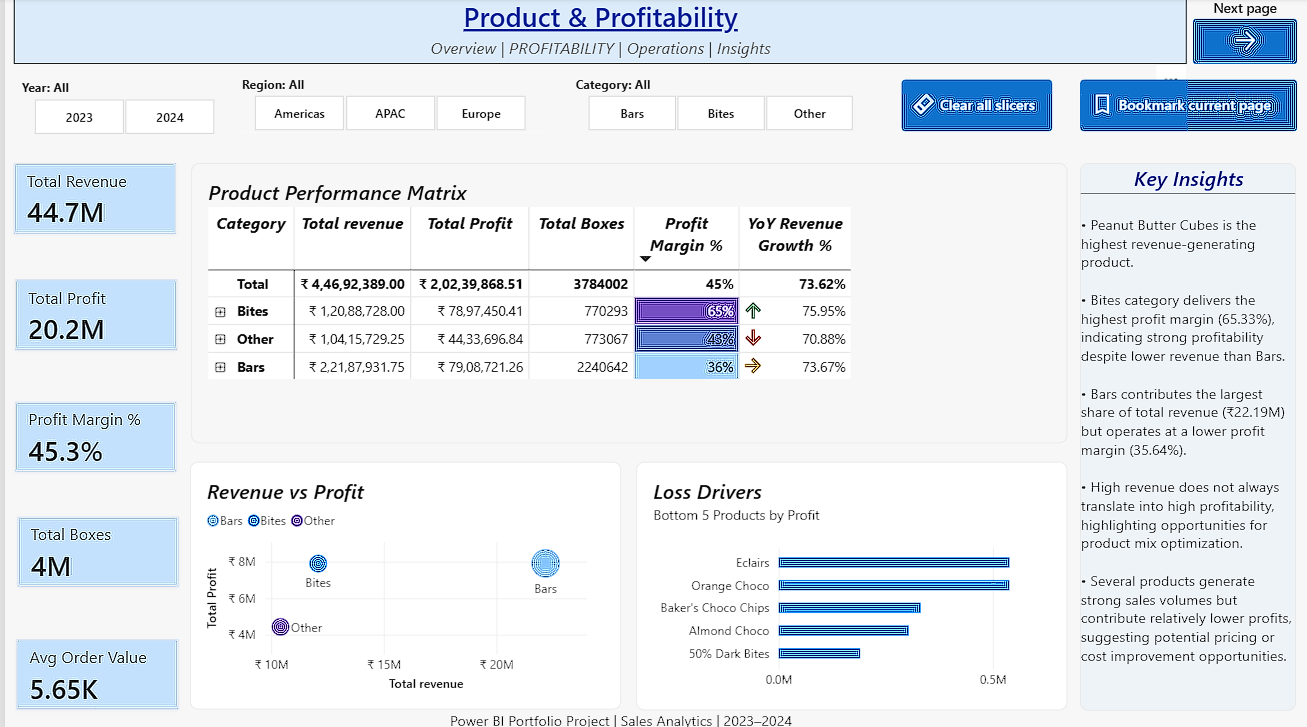

What the dashboard file says about the page in this screenshot:
{"tool":"powerbi","page":{"name":"Product & Profitability","canvas":[1280,720],"ordinal":2},"visuals":[{"type":"pivotTable","title":"Product Performance Matrix","fields":{"Rows":["products.Category","products.Product"],"Values":["calendar.Total revenue","calendar.Total Profit","calendar.Total Boxes","calendar.Profit Margin %","calendar.YoY Revenue Growth %"]},"box":[182.8,162,860.1,274.8],"z":0},{"type":"scatterChart","title":"Revenue vs Profit","fields":{"X":["calendar.Total revenue"],"Y":["calendar.Total Profit"],"Size":["calendar.Total Boxes"],"Series":["products.Category"]},"box":[181.6,455.2,423.3,242.9],"z":1000},{"type":"clusteredBarChart","title":"Loss Drivers","fields":{"Y":["calendar.Total Profit"],"Category":["products.Product"]},"box":[619.6,455.2,423.3,244.2],"z":2000},{"type":"textbox","box":[436.8,699.4,352.1,20.9],"z":3000},{"type":"actionButton","title":"Next page ","box":[1165.7,0,103.1,65],"z":4000},{"type":"textbox","title":"Product & Profitability","box":[8.7,0,1152.2,64.6],"z":5000},{"type":"slicer","fields":{"Values":["calendar.cal_date.Variation.Date Hierarchy.Year"]},"box":[8.6,79.8,216,55.2],"z":6000},{"type":"slicer","fields":{"Values":["locations.Region"]},"box":[224.5,76.1,305.5,55.2],"z":7000},{"type":"slicer","fields":{"Values":["products.Category"]},"box":[552.2,76.1,299.4,55.2],"z":8000},{"type":"actionButton","box":[879.8,79.8,148.5,51.5],"z":9000},{"type":"cardVisual","fields":{"Data":["calendar.Total revenue"]},"box":[8.6,162,159.5,69.9],"z":10000},{"type":"cardVisual","fields":{"Data":["calendar.Total Profit"]},"box":[9.8,276.1,159.5,69.9],"z":11000},{"type":"cardVisual","fields":{"Data":["calendar.Profit Margin %"]},"box":[9.8,396.3,158.3,68.7],"z":12000},{"type":"cardVisual","fields":{"Data":["Measures table.Total Boxes"]},"box":[12.3,509.2,158.3,68.7],"z":13000},{"type":"actionButton","box":[1055.2,79.8,213.5,51.5],"z":14000},{"type":"cardVisual","fields":{"Data":["Measures table.Average Order Value"]},"box":[11,629.5,159.5,68.7],"z":15000},{"type":"textbox","title":"Key Insights","box":[1055.2,162,212.3,537.4],"z":16000}]}

Visuals, with their boxes in screenshot pixels (x1, y1, x2, y2), scaled from the page's 1280x720 canvas onto the 1307x727 screenshot:
"Product Performance Matrix" pivotTable: pyautogui.locateOnScreen(187, 164, 1065, 441)
"Revenue vs Profit" scatterChart: pyautogui.locateOnScreen(185, 460, 618, 705)
"Loss Drivers" clusteredBarChart: pyautogui.locateOnScreen(633, 460, 1065, 706)
textbox: pyautogui.locateOnScreen(446, 706, 806, 726)
"Next page " actionButton: pyautogui.locateOnScreen(1190, 0, 1296, 66)
"Product & Profitability" textbox: pyautogui.locateOnScreen(9, 0, 1185, 65)
slicer - calendar.cal_date.Variation.Date Hierarchy.Year: pyautogui.locateOnScreen(9, 81, 229, 136)
slicer - locations.Region: pyautogui.locateOnScreen(229, 77, 541, 133)
slicer - products.Category: pyautogui.locateOnScreen(564, 77, 870, 133)
actionButton: pyautogui.locateOnScreen(898, 81, 1050, 133)
cardVisual - calendar.Total revenue: pyautogui.locateOnScreen(9, 164, 172, 234)
cardVisual - calendar.Total Profit: pyautogui.locateOnScreen(10, 279, 173, 349)
cardVisual - calendar.Profit Margin %: pyautogui.locateOnScreen(10, 400, 172, 470)
cardVisual - Measures table.Total Boxes: pyautogui.locateOnScreen(13, 514, 174, 584)
actionButton: pyautogui.locateOnScreen(1077, 81, 1295, 133)
cardVisual - Measures table.Average Order Value: pyautogui.locateOnScreen(11, 636, 174, 705)
"Key Insights" textbox: pyautogui.locateOnScreen(1077, 164, 1294, 706)
